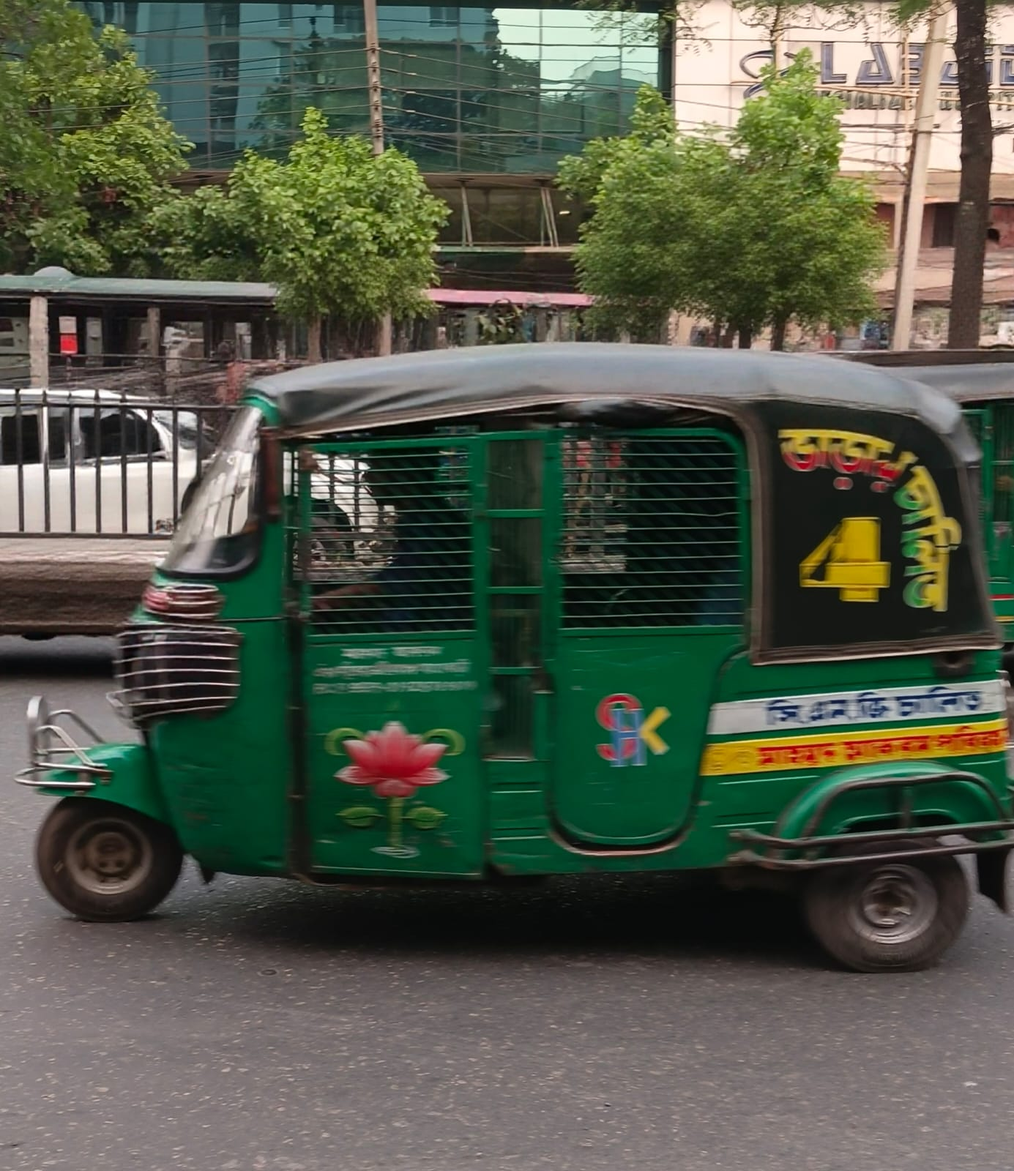cng: (37, 338, 1013, 978)
